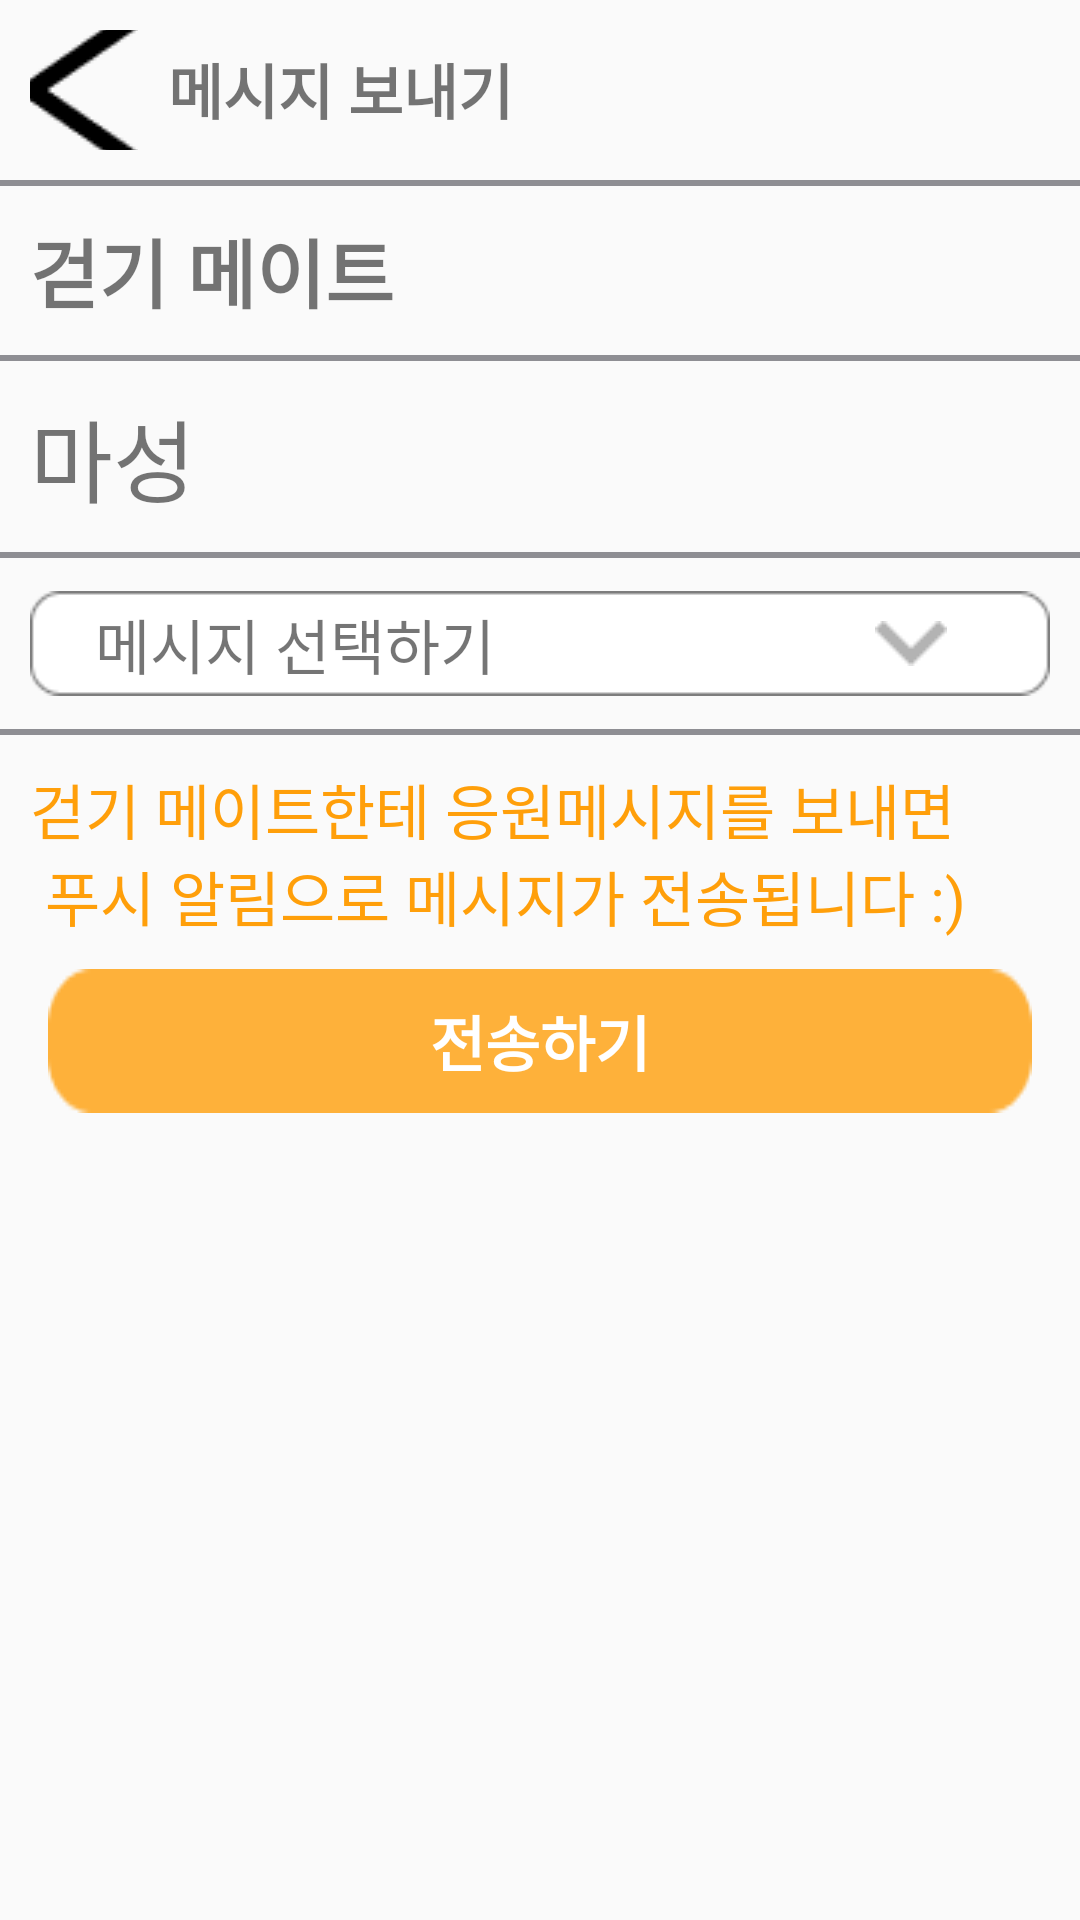

Screen size 1080px x 1920px. Icon name, then its center in pixels as (x=x, y=y):
back: (x=84, y=90)
